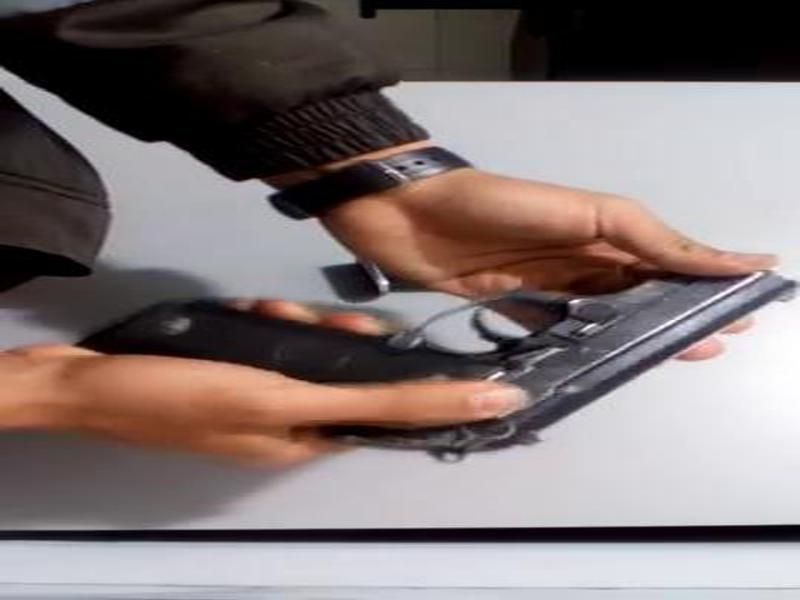Pistola: (69, 242, 800, 482)
